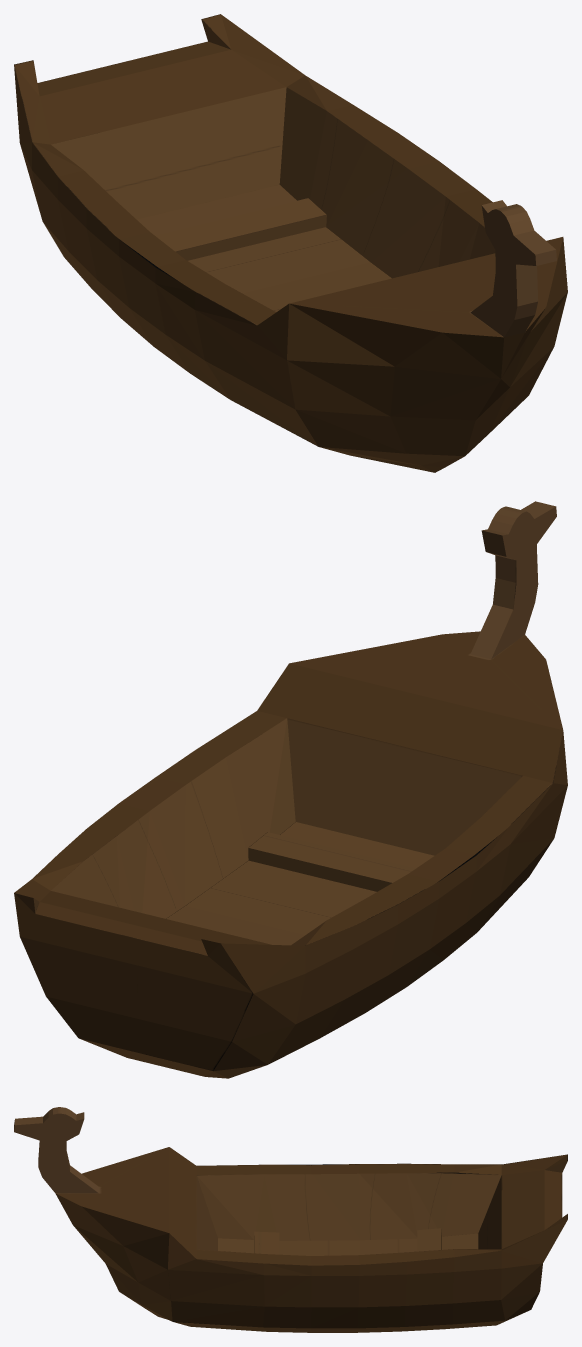
The model's file is Boat.fbx.
3 views of the same model, one above another, from view 1: azimuth 30°, elevation 25°; view 2: azimuth 150°, elevation 25°; view 3: azimuth 270°, elevation 25° (orthographic). The views are drawn at different scales.
Visible parts, largest first — view 1: Box026; view 2: Box026; view 3: Box026.
Part boxes in pixels (<box>): Box026: <box>14,14,567,472</box>; Box026: <box>14,501,567,1078</box>; Box026: <box>14,1107,567,1332</box>.
Bounding box in the file's own units: 37.64 × 36.02 × 87.2.
